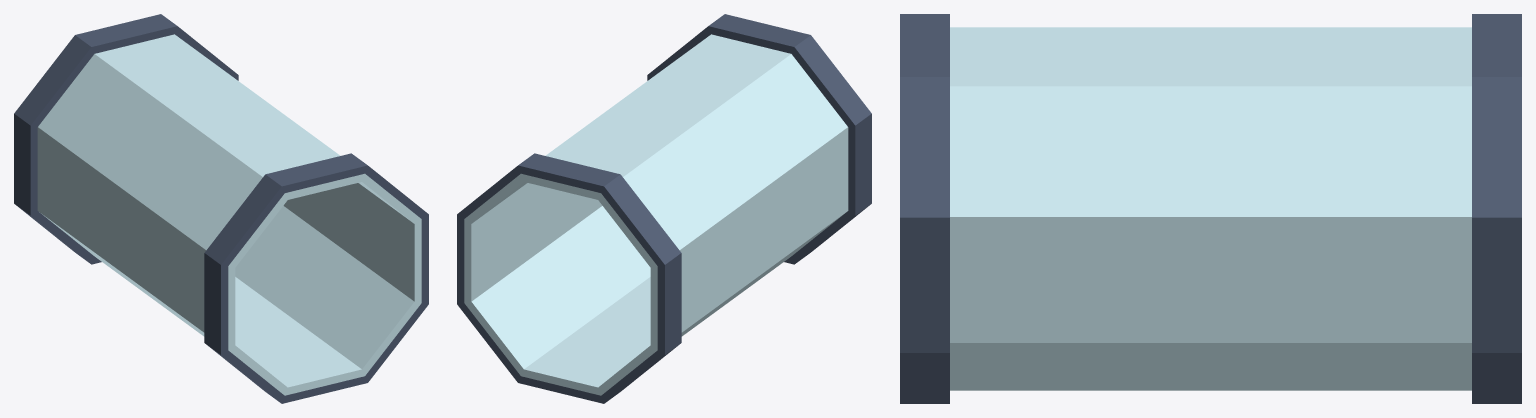
The model's file is SM_RatTube_Straight_1m.glb.
3 views of the same model, side by side, from view 1: azimuth 30°, elevation 25°; view 2: azimuth 150°, elevation 25°; view 3: azimuth 270°, elevation 25° (orthographic). The views are drawn at different scales.
Parts seen in each view (by area): view 1: SM_RatTube_Straight_1m-col; view 2: SM_RatTube_Straight_1m-col; view 3: SM_RatTube_Straight_1m-col.
Part boxes in pixels (x1,y1,x2,y2): SM_RatTube_Straight_1m-col: (14, 14, 428, 403); SM_RatTube_Straight_1m-col: (457, 14, 871, 403); SM_RatTube_Straight_1m-col: (900, 14, 1521, 403).
Size of the model in its own units: 0.58 by 0.58 by 1.
